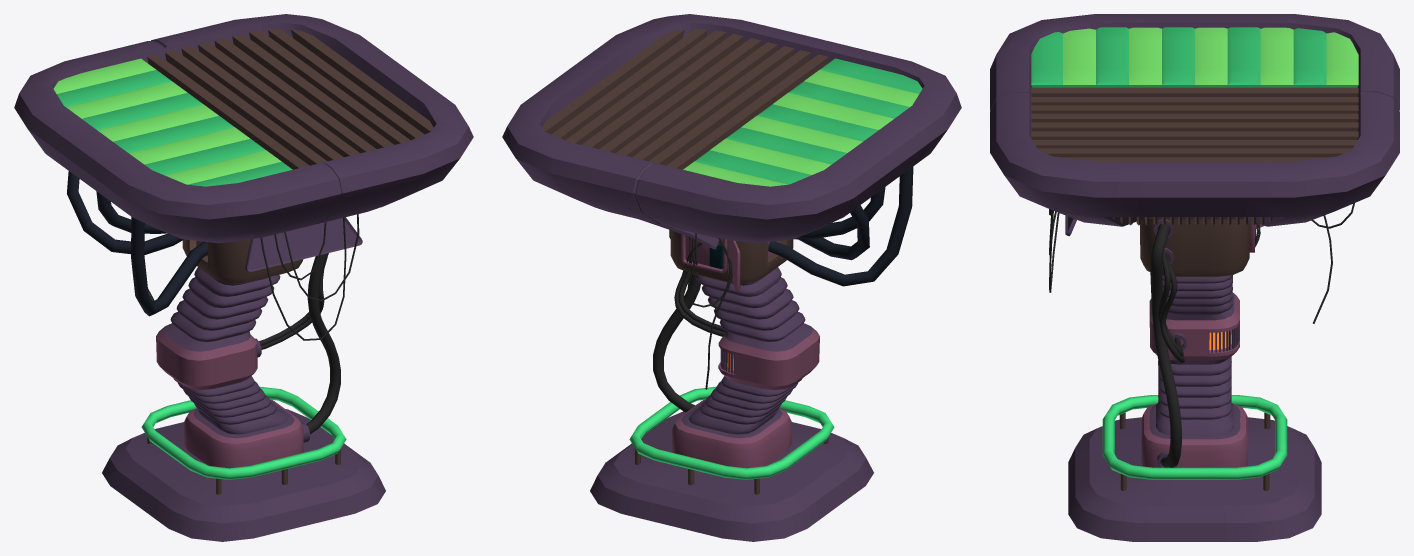
The model's file is Middle_platform.fbx.
The picture shows the model from 3 angles, left to right: view 1: azimuth 30°, elevation 25°; view 2: azimuth 150°, elevation 25°; view 3: azimuth 270°, elevation 25°; orthographic projection. The views are drawn at different scales.
Parts seen in each view (by area): view 1: CubeMiddle.004; view 2: CubeMiddle.004; view 3: CubeMiddle.004.
Part boxes in pixels (x1,y1,x2,y2): CubeMiddle.004: (14,14,473,541); CubeMiddle.004: (502,14,961,541); CubeMiddle.004: (990,14,1399,541).
Bounding box in the file's own units: 400 × 426 × 400.
